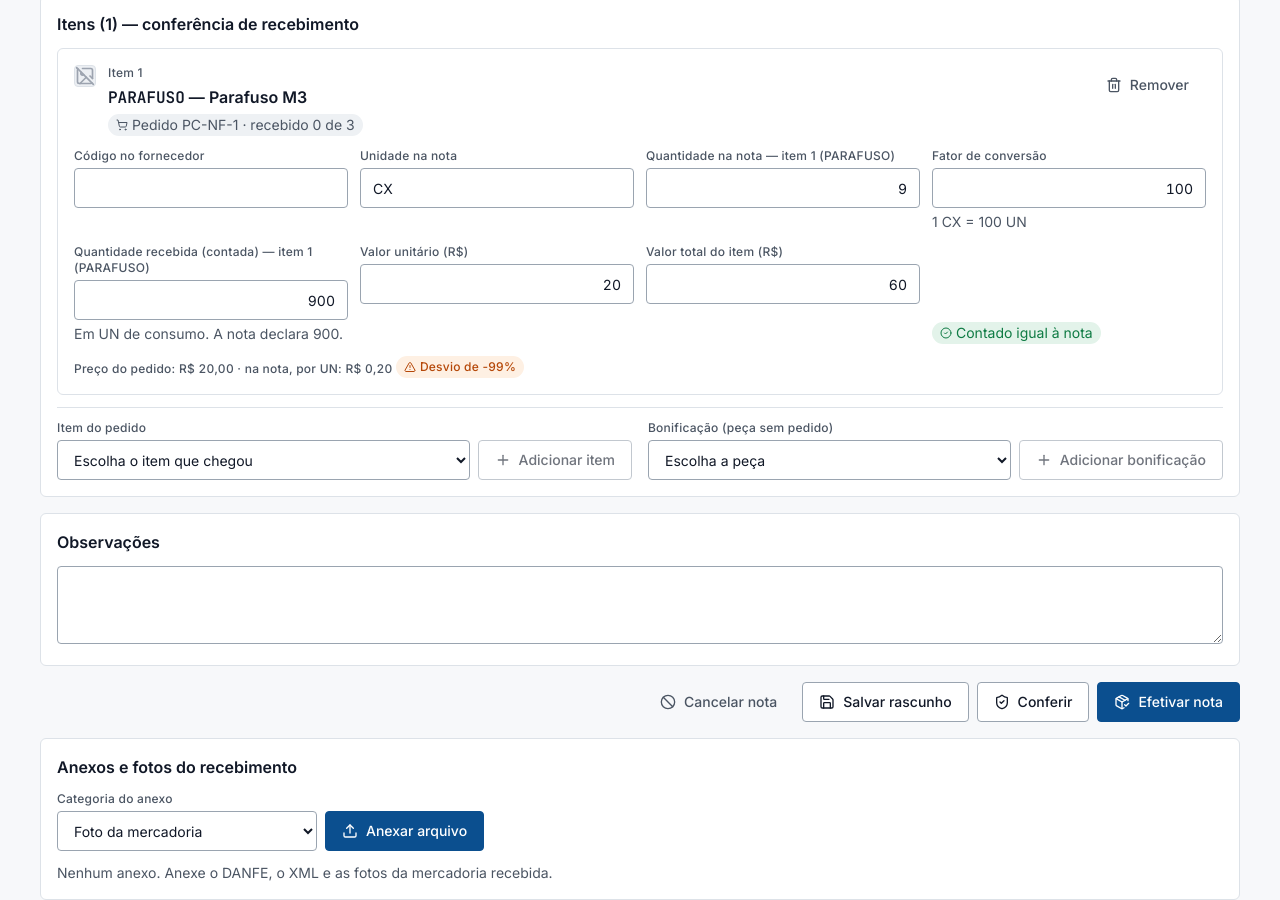
Scenario: NotaEntrada › nota conferida sem pendencias: efetivar da entrada no estoque e a nota fica so leitura com quem efetivou
(page scrolled)
Click the button "Efetivar nota": [1169, 702] box [1097,682,1240,722]
(page scrolled)
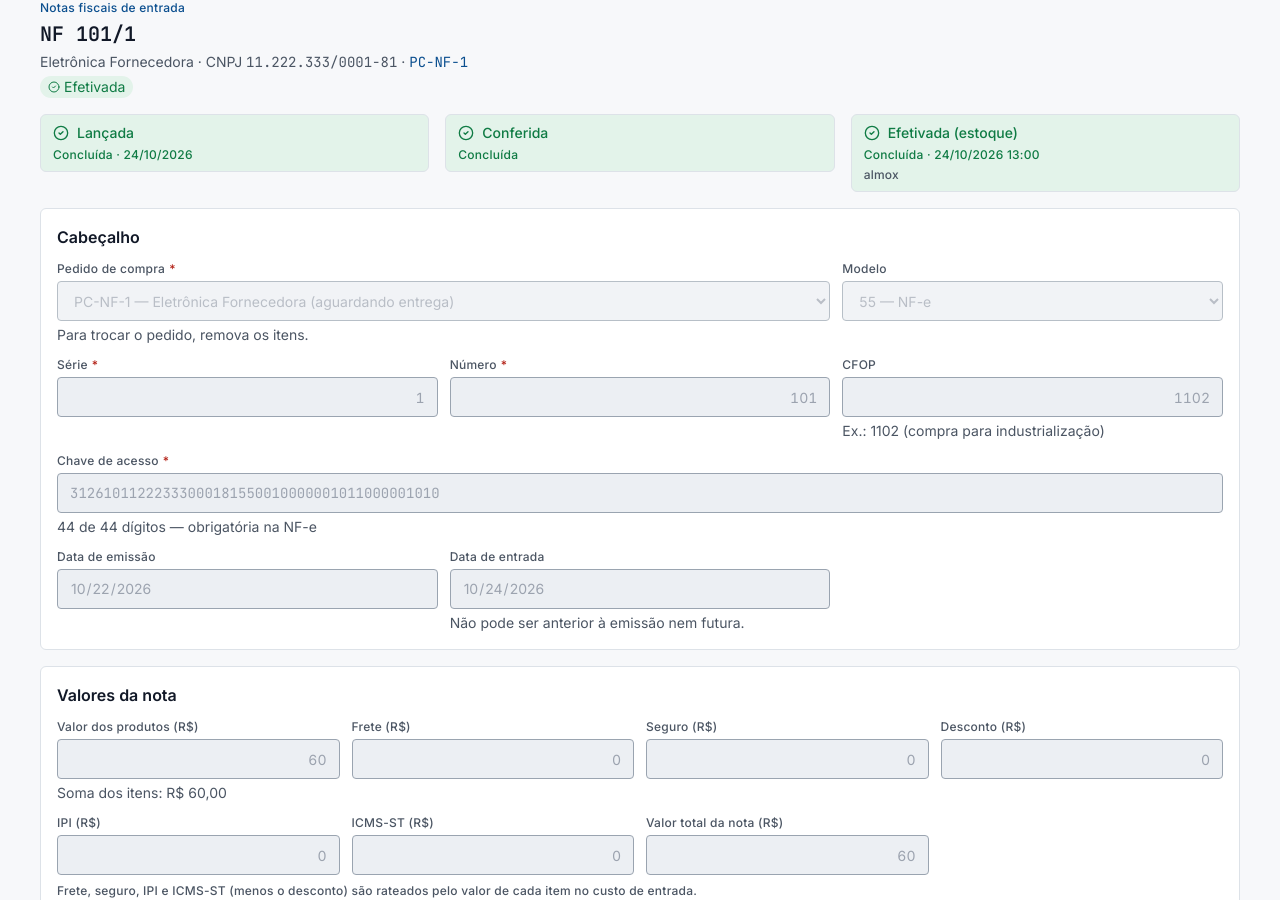
Expected: the text "almox" is shown, [864,167,899,182]
Expected: the button "Salvar rascunho" is gone
Expected: the button "Efetivar nota" is gone
